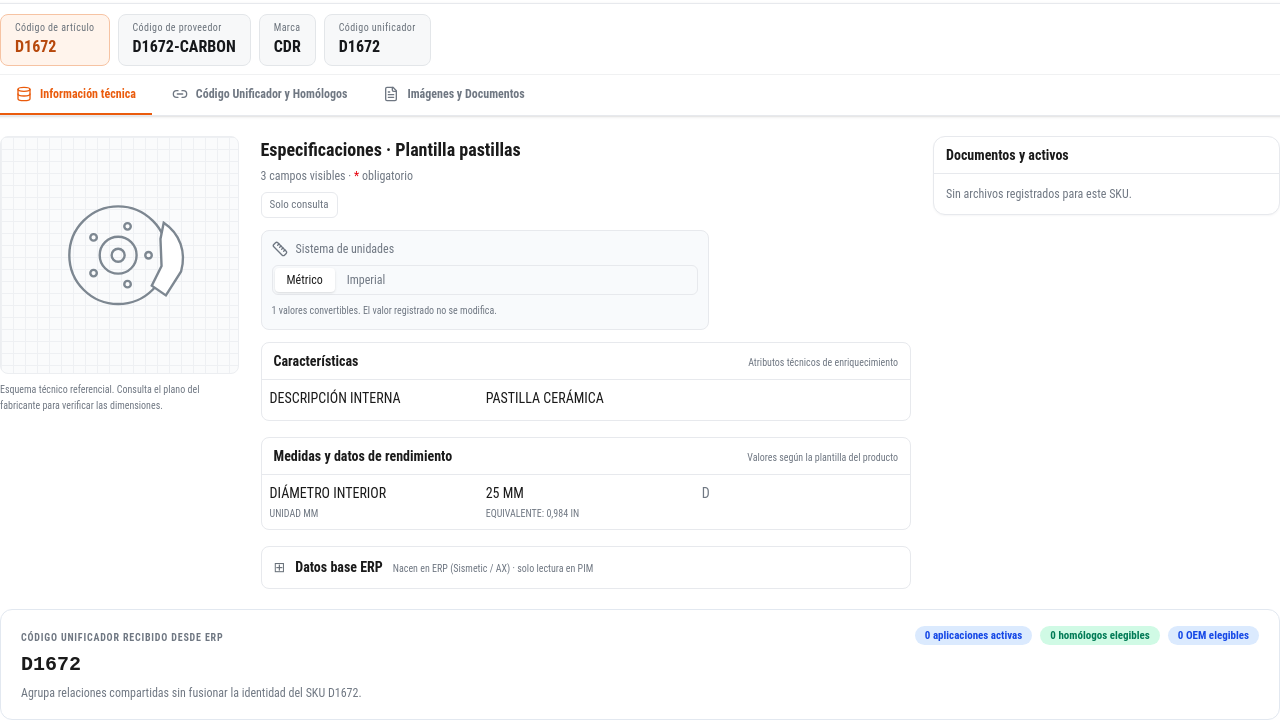
ProductDetailView operational data › keeps name, value and abbreviation in order and folds ERP last for {"showCompleteness":false,"showProductStatus":false}
This screenshot has width=1280, height=720.
(page scrolled)
Click the heading "Datos base ERP".
click(339, 567)  # box [295,557,383,577]
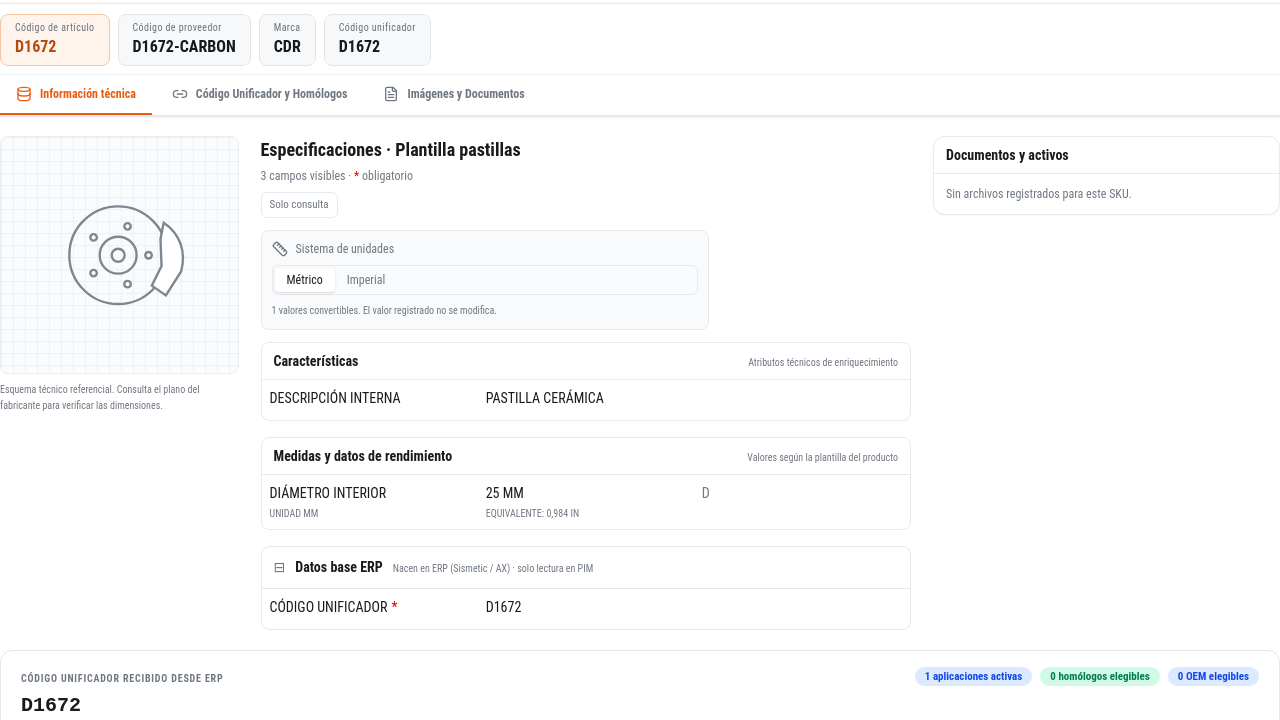
Expected: the table "Código unificador* D1672" is shown, [262,589,910,629]
